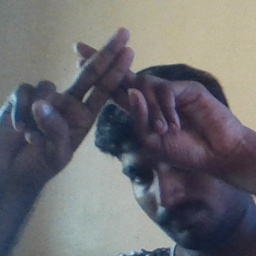F: (45, 18, 170, 148)
